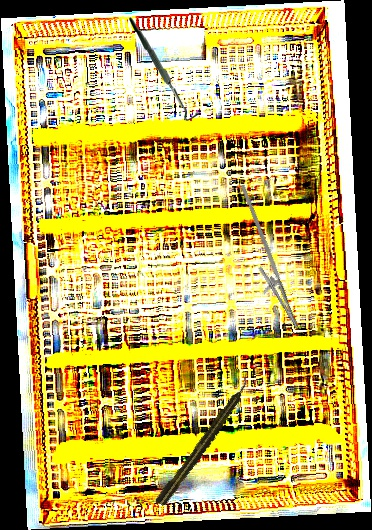Handpiece: (152, 375, 256, 510)
Hook Surgical: (128, 13, 201, 125)
Needle Holder: (213, 183, 316, 335)
